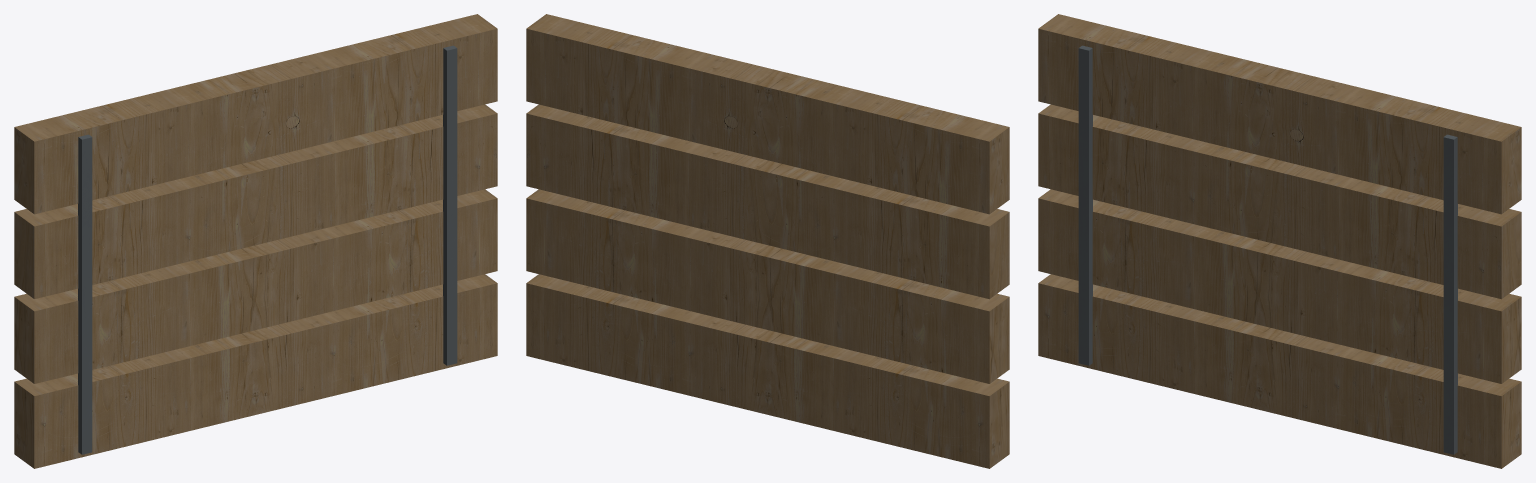
Rendered from barricade_wood.glb.
3 views of the same model, side by side, from view 1: azimuth 30°, elevation 25°; view 2: azimuth 150°, elevation 25°; view 3: azimuth 330°, elevation 25° (orthographic).
Visible parts, largest first — view 1: barricade_wood; view 2: barricade_wood; view 3: barricade_wood.
Boxes of the visible parts, box(x1,y1,x2,y2) form: barricade_wood: box(14, 14, 497, 468); barricade_wood: box(526, 14, 1009, 468); barricade_wood: box(1038, 14, 1521, 468).
Bounding box in the file's own units: 1.6 × 1.08 × 0.142.
2 materials, 2 textured.
